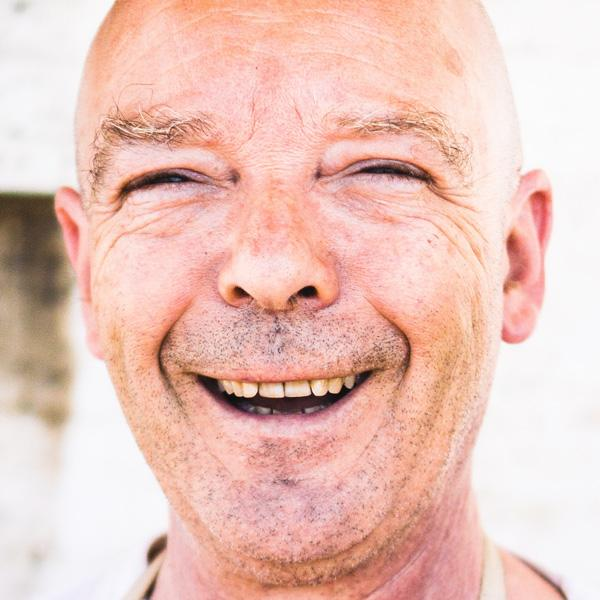Eyes: (318, 139, 453, 208), (108, 150, 230, 220)
